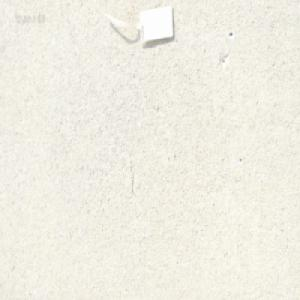LuggageTag: (101, 5, 174, 50)
